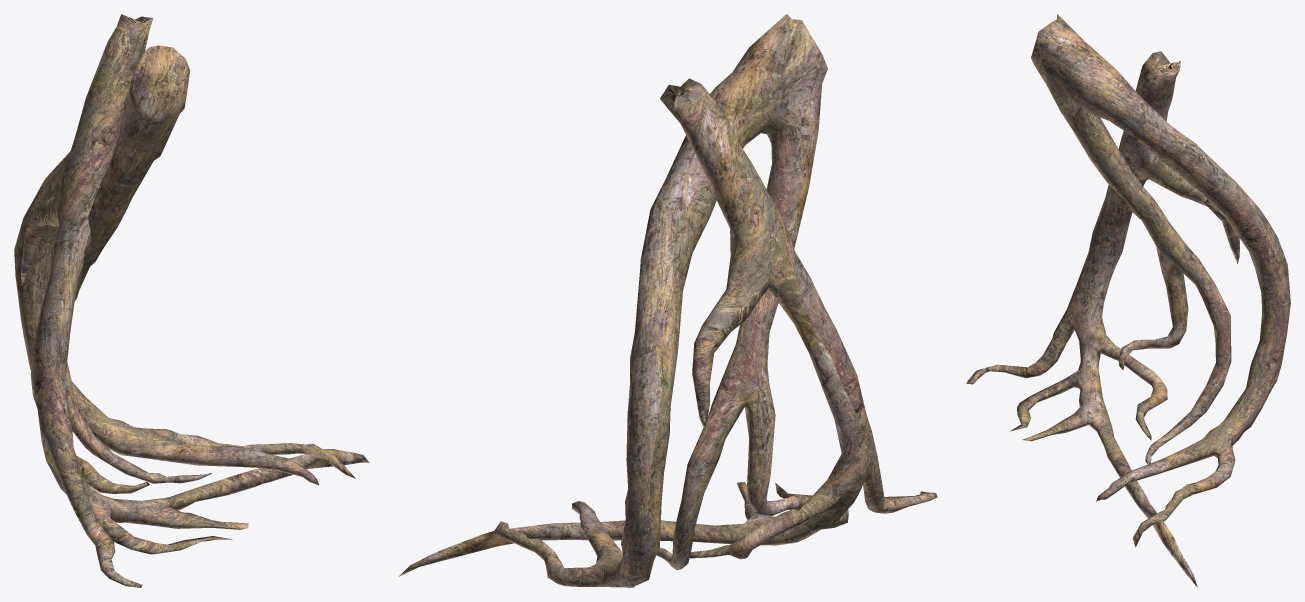
Rendered from SM_HollowInteriorRoots_02.fbx.
3 renders of one model, left to right at view 1: azimuth 30°, elevation 25°; view 2: azimuth 150°, elevation 25°; view 3: azimuth 270°, elevation 25°, orthographic. The views are drawn at different scales.
Parts seen in each view (by area): view 1: SM_HollowInteriorRoots_02; view 2: SM_HollowInteriorRoots_02; view 3: SM_HollowInteriorRoots_02.
Boxes of the visible parts, x1,y1,x2,y2 form: SM_HollowInteriorRoots_02: [14, 14, 369, 587]; SM_HollowInteriorRoots_02: [398, 14, 937, 587]; SM_HollowInteriorRoots_02: [966, 14, 1290, 587].
Bounding box in the file's own units: 414 × 362 × 557.
Materials: 1 (1 with a texture image).
